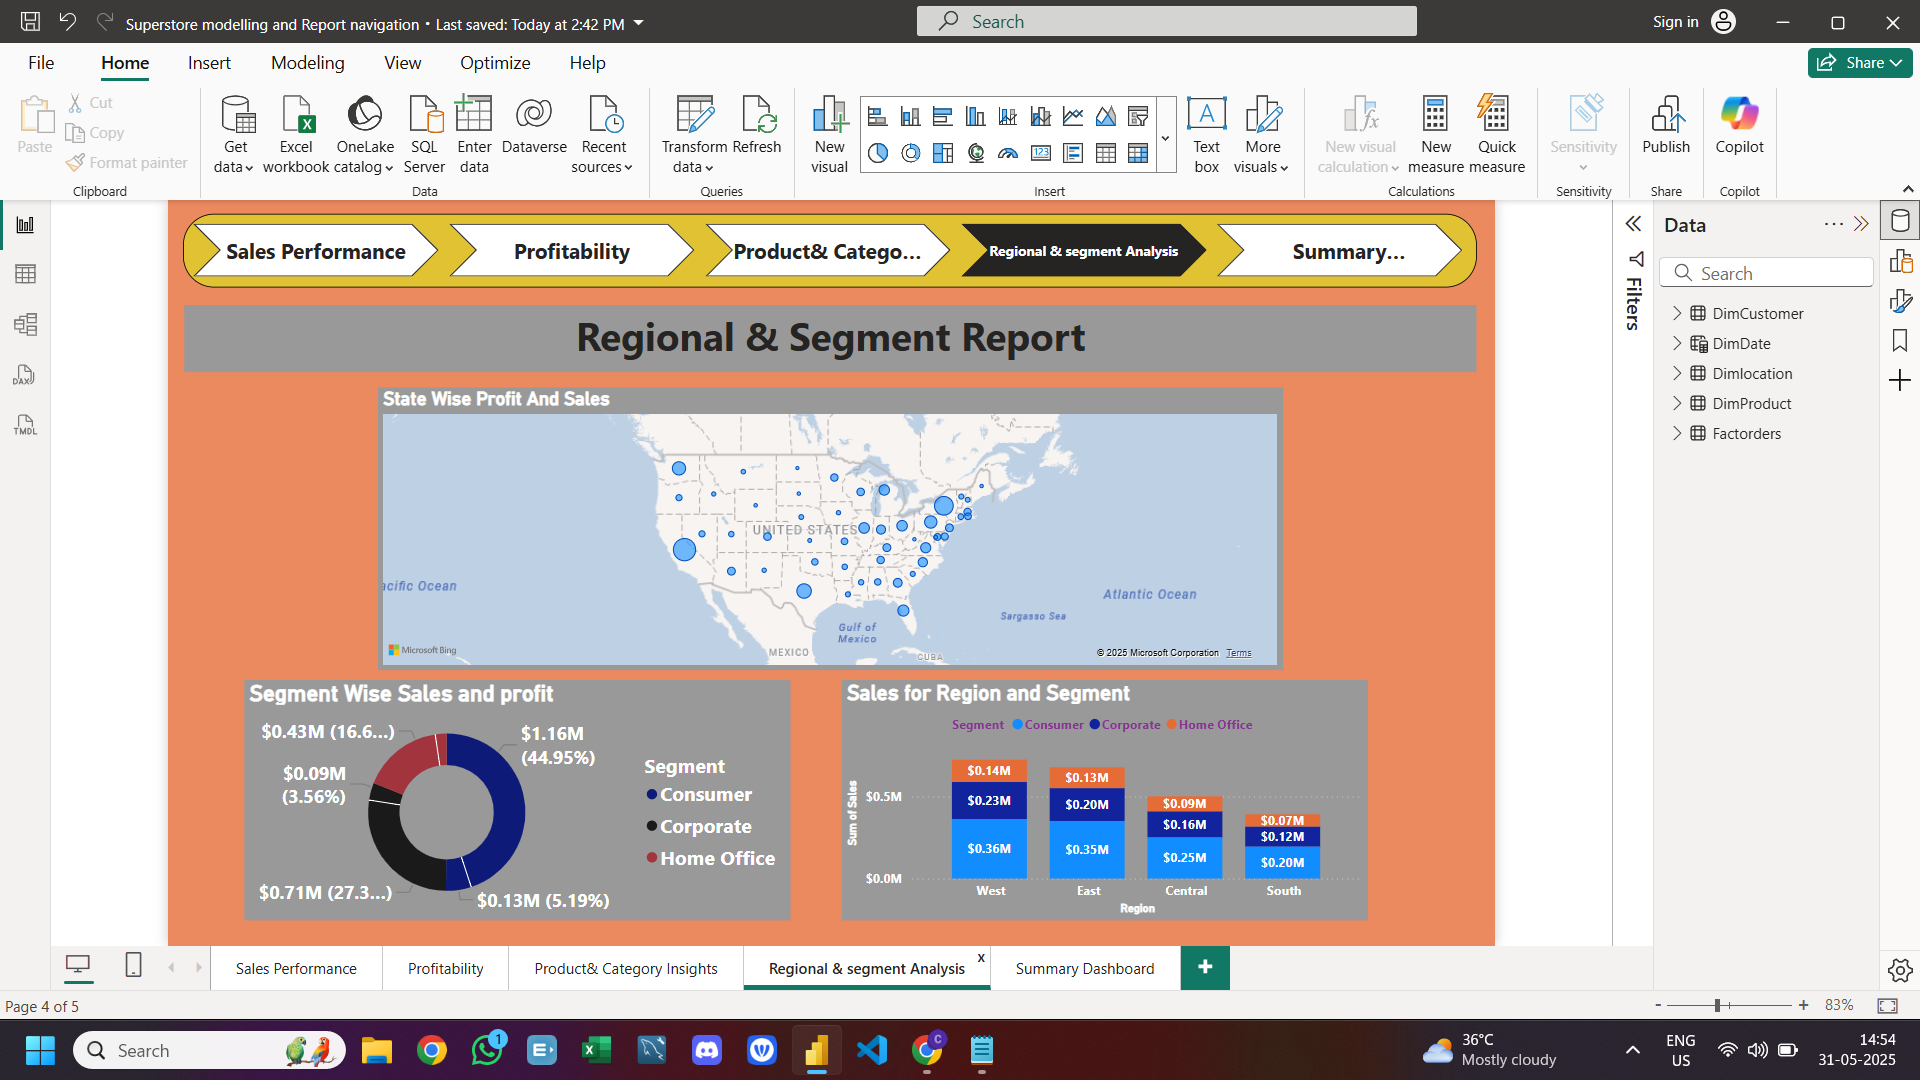

This screenshot's page, from the dashboard's own definition file:
{"tool":"powerbi","page":{"name":"Regional & segment Analysis","canvas":[1280,720],"ordinal":3},"visuals":[{"type":"textbox","box":[15.7,101.3,1247.5,65.1],"z":0},{"type":"map","title":"State Wise Profit And Sales","fields":{"Size":["Sum(Sample - Superstore.Sales)"],"Category":["Sample - Superstore.State"]},"box":[202.7,181,873.5,272.7],"z":1000},{"type":"columnChart","title":"Sales for Region and Segment","fields":{"Category":["Sample - Superstore.Region"],"Y":["Sum(Sample - Superstore.Sales)"],"Series":["Sample - Superstore.Segment"]},"box":[650.3,463.3,507.9,231.6],"z":2000},{"type":"donutChart","title":"Segment Wise Sales and profit","fields":{"Y":["Sum(Sample - Superstore.Sales)","Sum(Sample - Superstore.Profit)"],"Category":["Sample - Superstore.Segment"]},"box":[73.6,463.3,527.2,231.6],"z":3000},{"type":"pageNavigator","box":[14.5,13.3,1248.7,71.2],"z":4000}]}

Visuals, with their boxes on the page's 1280x720 design canvas (x1, y1, x2, y2). These are canvas units, not pixel positions in the 1920x1080 screenshot, which may show the page scaled, cropped or inside an application window:
textbox: x1=16, y1=101, x2=1263, y2=166
"State Wise Profit And Sales" map: x1=203, y1=181, x2=1076, y2=454
"Sales for Region and Segment" columnChart: x1=650, y1=463, x2=1158, y2=695
"Segment Wise Sales and profit" donutChart: x1=74, y1=463, x2=601, y2=695
pageNavigator: x1=14, y1=13, x2=1263, y2=84
